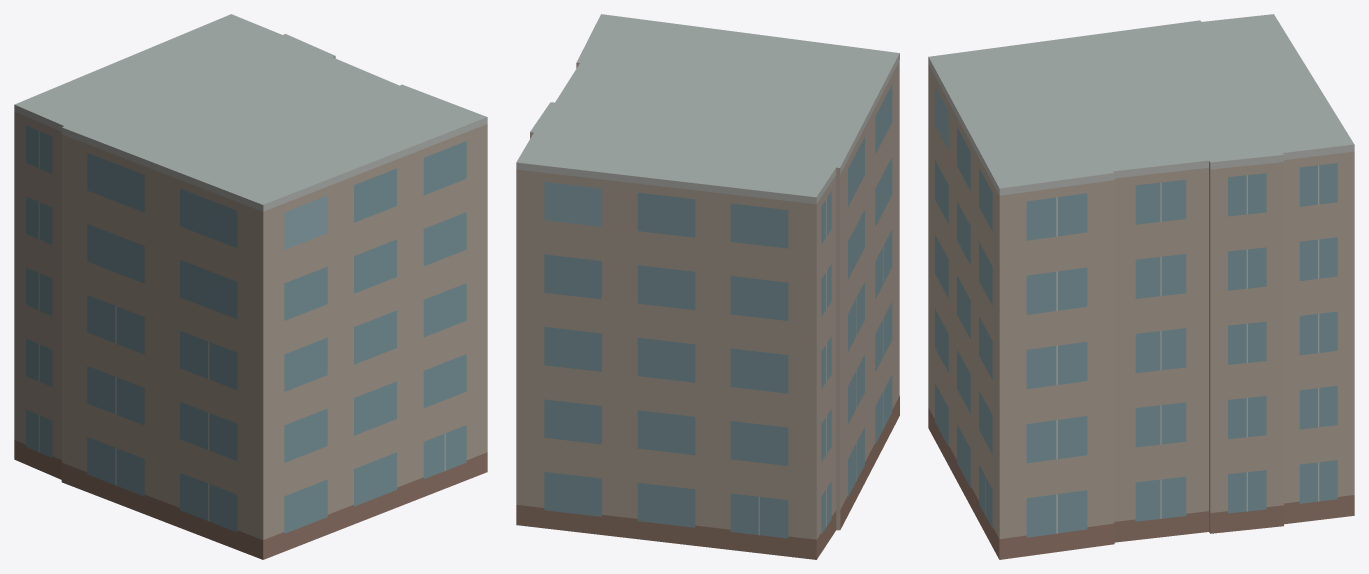
File: survey-upis-32650693.glb
The picture shows the model from 3 angles, left to right: view 1: azimuth 30°, elevation 25°; view 2: azimuth 150°, elevation 25°; view 3: azimuth 270°, elevation 25°; orthographic projection. The views are drawn at different scales.
Visible parts, largest first — view 1: survey-upis-32650693.tmp; view 2: survey-upis-32650693.tmp; view 3: survey-upis-32650693.tmp.
Part boxes in pixels (left/top/right/bottom): survey-upis-32650693.tmp: left=14, top=14, right=487, bottom=559; survey-upis-32650693.tmp: left=516, top=14, right=899, bottom=559; survey-upis-32650693.tmp: left=928, top=14, right=1354, bottom=559.
Size of the model in its own units: 12.82 by 12.7 by 13.22.
